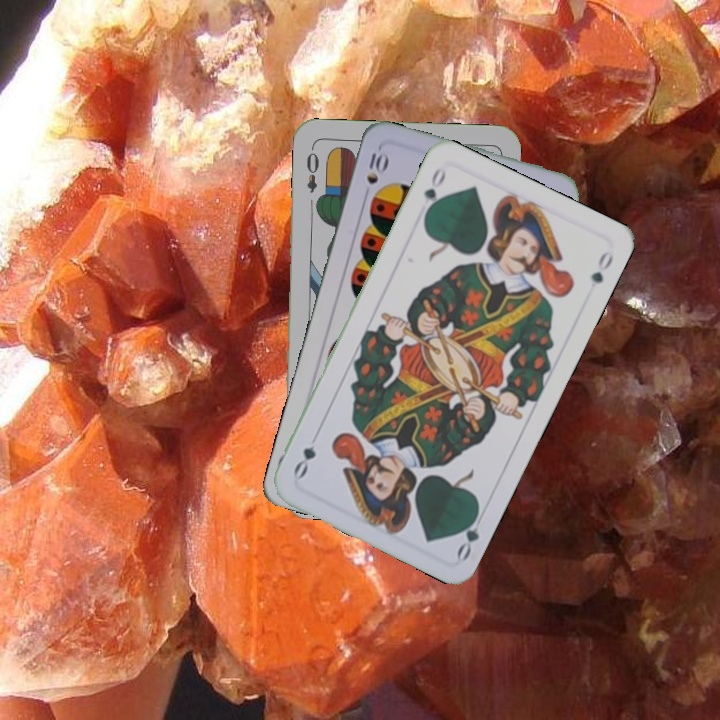EO: (302, 143, 322, 195)
GO: (452, 504, 482, 563), (420, 164, 449, 220)
S10: (359, 145, 390, 202)
